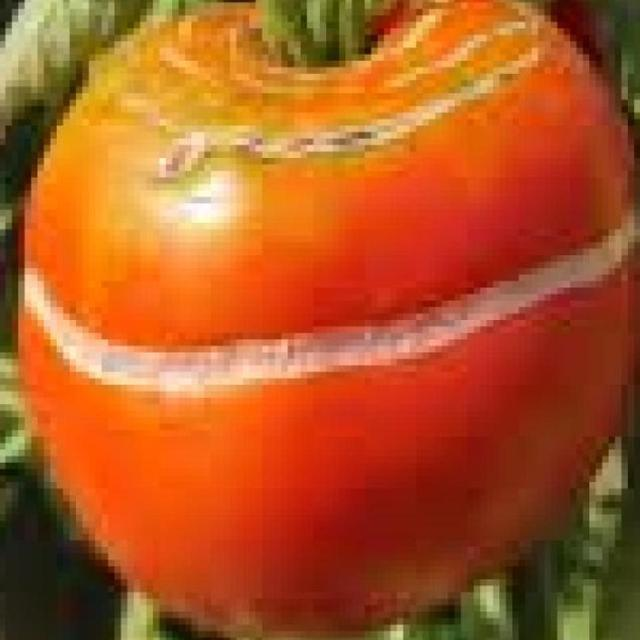Cracking Fruit: (210, 57, 412, 203)
